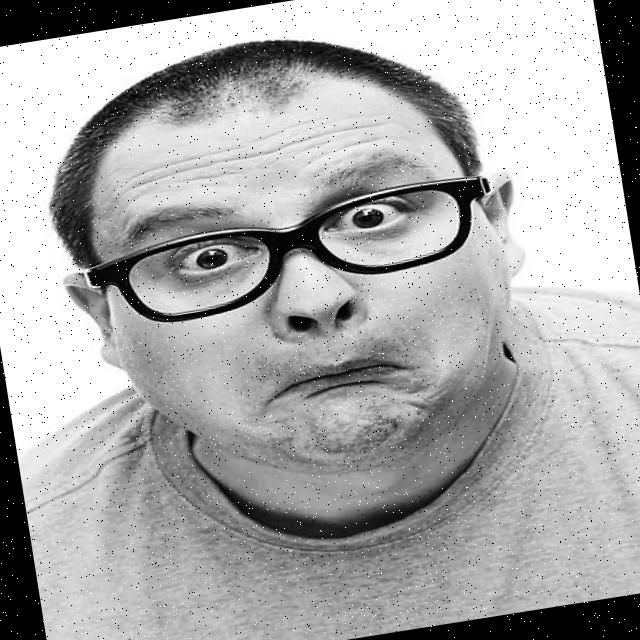Fear: (98, 76, 520, 502)
